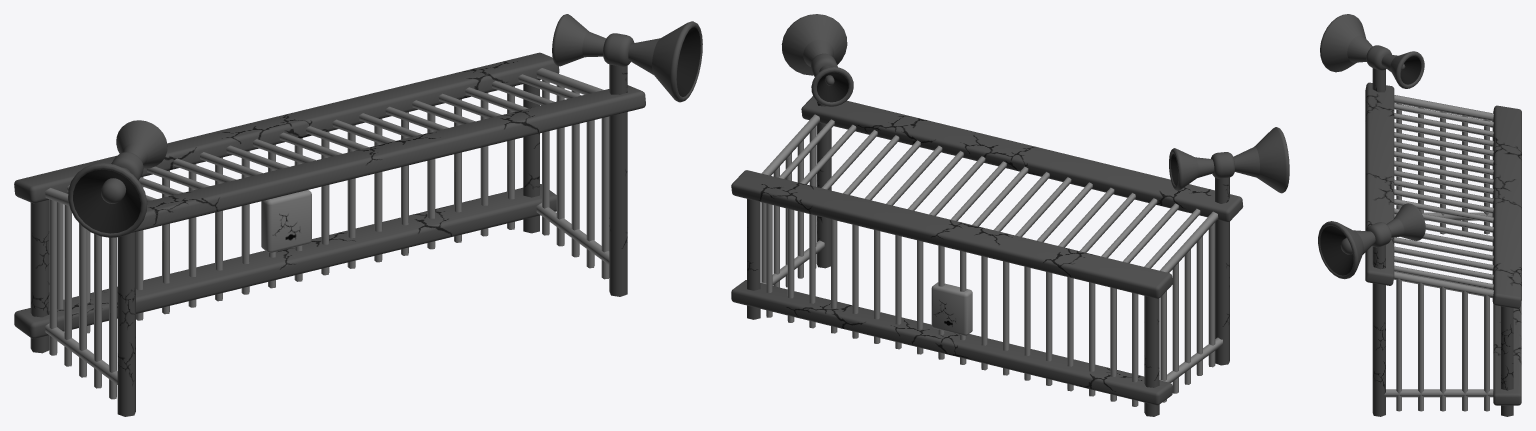
File: arco carcel.FBX
The picture shows the model from 3 angles, left to right: view 1: azimuth 30°, elevation 25°; view 2: azimuth 150°, elevation 25°; view 3: azimuth 270°, elevation 25°; orthographic projection. The views are drawn at different scales.
Visible parts, largest first — view 1: arco carcel, parlante derecho, parlante izquierdo; view 2: arco carcel, parlante izquierdo, parlante derecho; view 3: arco carcel, parlante derecho, parlante izquierdo.
Part boxes in pixels (x1,y1,x2,y2): arco carcel: [14, 52, 645, 416]; parlante derecho: [68, 120, 167, 237]; parlante izquierdo: [552, 14, 702, 102]; arco carcel: [731, 96, 1243, 416]; parlante izquierdo: [781, 14, 853, 106]; parlante derecho: [1169, 127, 1289, 193]; arco carcel: [1365, 68, 1521, 416]; parlante derecho: [1320, 14, 1424, 88]; parlante izquierdo: [1318, 203, 1425, 279].
Size of the model in its own units: 856 by 362 by 326.
1 material, 1 textured.
